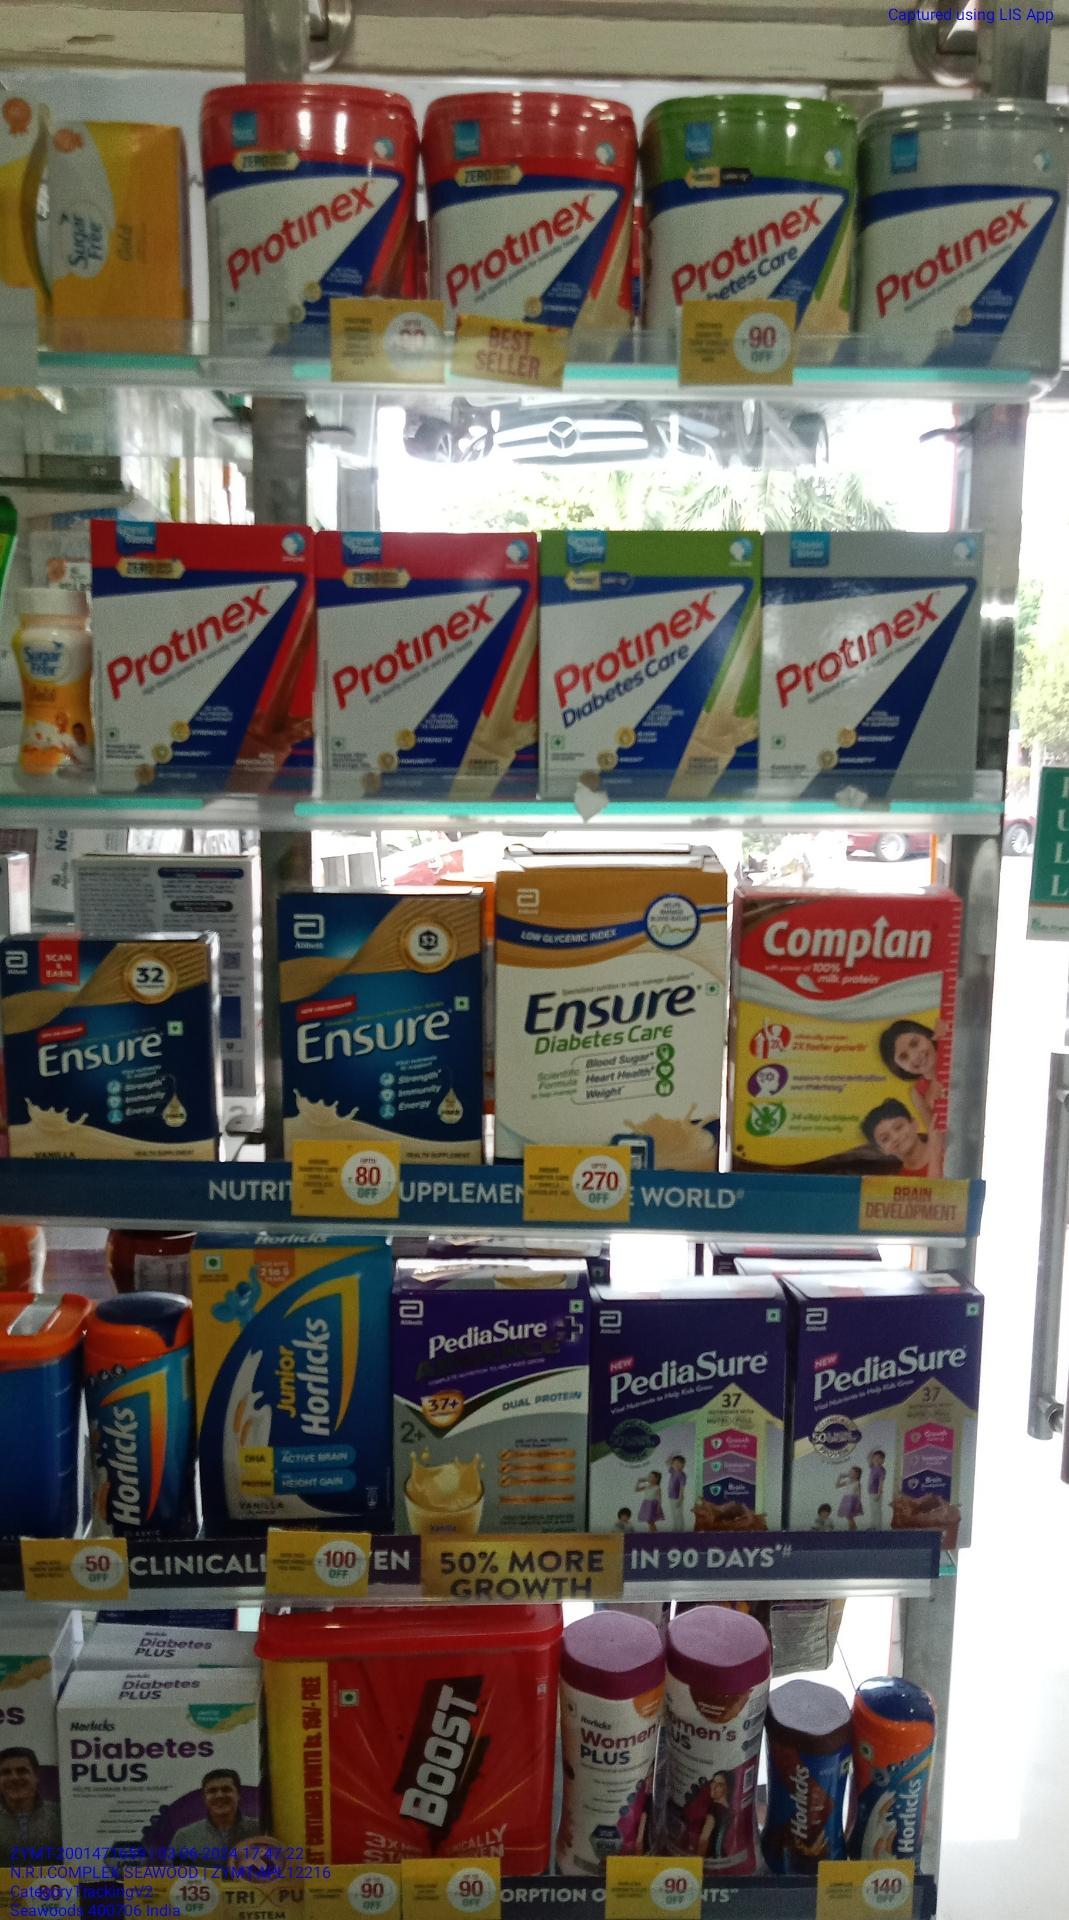ENSURE_VANILLA_400_G_PACK: (282, 890, 482, 1162), (8, 942, 216, 1166)
PEDIASURE_CHOCOLATE_500_G_PACK: (595, 1295, 781, 1545), (795, 1294, 970, 1546)
PROTINEX_CHOCOLATE_400_G_JAR: (207, 87, 413, 355)
PROTINEX_ORIGINAL_400_G_JAR: (858, 92, 1064, 366)
PROTINEX_VANILLA_400_G_JAR: (425, 92, 633, 358)
